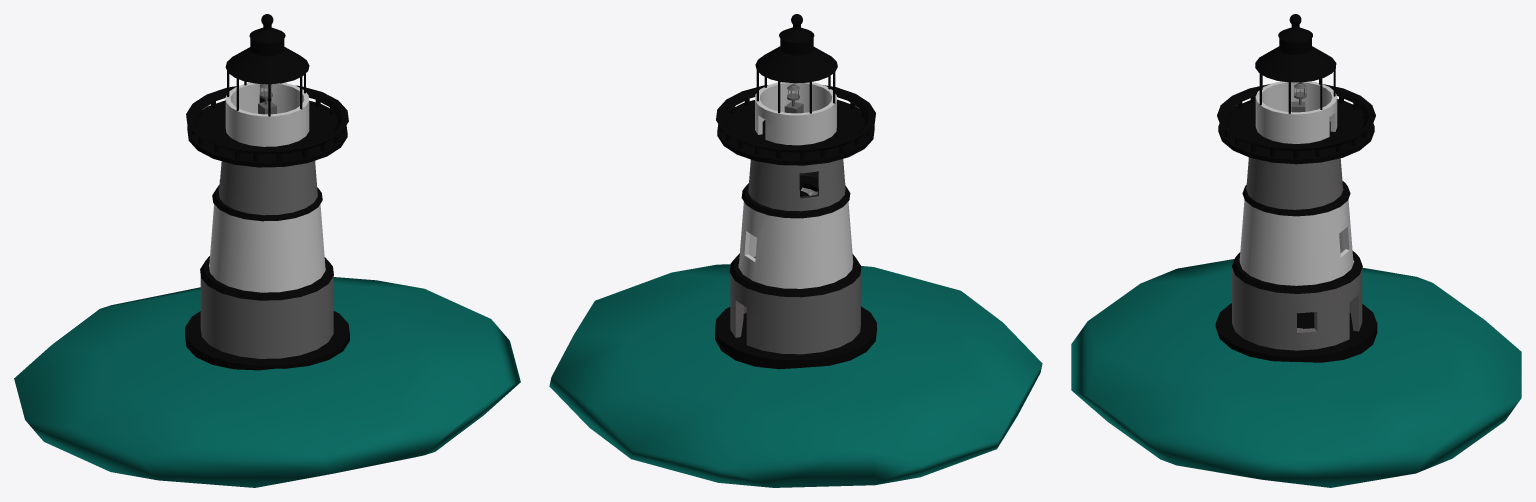
Rendered from Faro.fbx.
3 renders of one model, left to right at view 1: azimuth 30°, elevation 25°; view 2: azimuth 150°, elevation 25°; view 3: azimuth 270°, elevation 25°, orthographic. The views are drawn at different scales.
Parts seen in each view (by area): view 1: Piso, group_pasted__pPipe1Shape, pPipe2, pasted__pCylinder1, pCylinder1, pasted__pPipe2, pasted__pasted__pasted__pasted__pPipe1, pasted__pPipe1, pasted__pasted__pPipe1; view 2: Piso, group_pasted__pPipe1Shape, pPipe2, pasted__pCylinder1, pCylinder1, pasted__pPipe2, pasted__pasted__pasted__pasted__pPipe1, pasted__pPipe1, pasted__pasted__pPipe1; view 3: Piso, group_pasted__pPipe1Shape, pPipe2, pasted__pCylinder1, pCylinder1, pasted__pPipe2, pasted__pasted__pasted__pasted__pPipe1, pasted__pPipe1, pasted__pasted__pPipe1.
Boxes of the visible parts, x1,y1,x2,y2 form: Piso: (14,277,520,487); group_pasted__pPipe1Shape: (200,161,333,358); pPipe2: (225,82,309,146); pasted__pCylinder1: (187,97,347,167); pCylinder1: (185,311,349,370); pasted__pPipe2: (225,47,309,84); pasted__pasted__pasted__pasted__pPipe1: (186,85,348,154); pasted__pPipe1: (200,256,333,300); pasted__pasted__pPipe1: (212,185,322,221); Piso: (549,264,1042,487); group_pasted__pPipe1Shape: (730,159,860,354); pPipe2: (755,82,836,145); pasted__pCylinder1: (717,99,874,165); pCylinder1: (715,306,876,369); pasted__pPipe2: (755,46,837,83); pasted__pasted__pasted__pasted__pPipe1: (716,85,875,152); pasted__pPipe1: (729,253,861,297); pasted__pasted__pPipe1: (741,183,850,218); Piso: (1071,259,1521,487); group_pasted__pPipe1Shape: (1232,157,1362,350); pPipe2: (1255,81,1337,143); pasted__pCylinder1: (1218,99,1374,164); pCylinder1: (1215,303,1377,362); pasted__pPipe2: (1255,46,1336,82); pasted__pasted__pasted__pasted__pPipe1: (1217,84,1375,151); pasted__pPipe1: (1232,251,1362,293); pasted__pasted__pPipe1: (1242,181,1350,216).
Bounding box in the file's own units: 4502 × 3963 × 4019.
